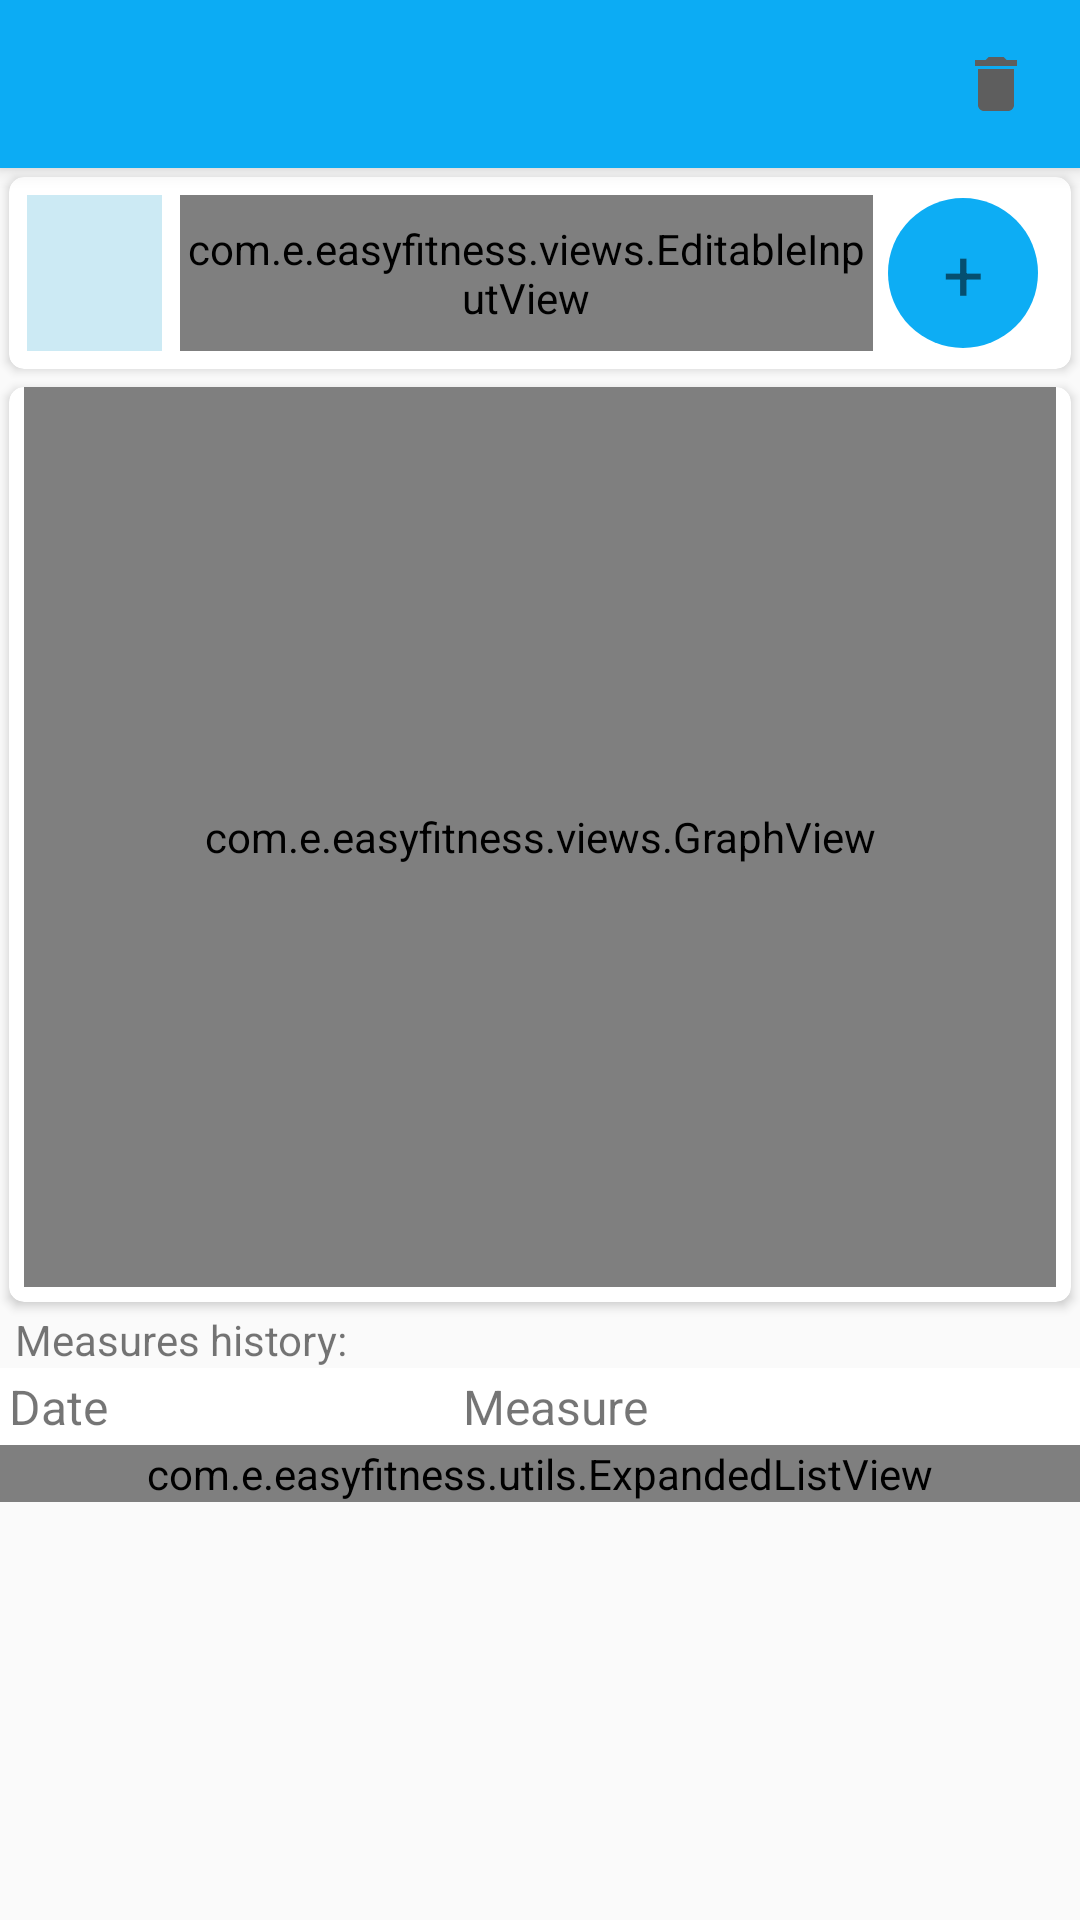

Icon click points for this 1080w x 1920h phone screenshot, format (x,y):
delete: (996,84)
